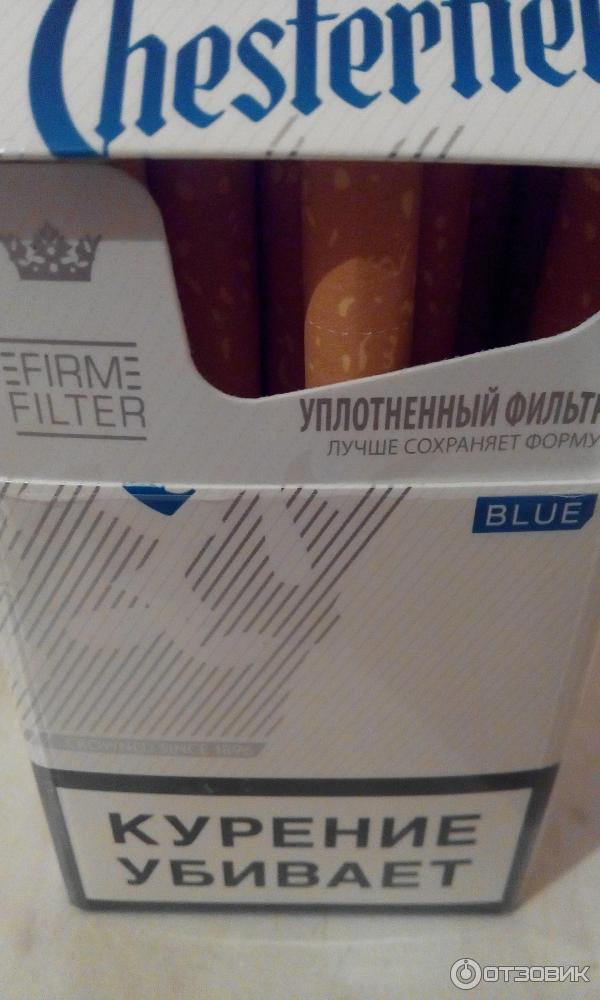chesterfield_blue: (29, 1, 600, 912)
